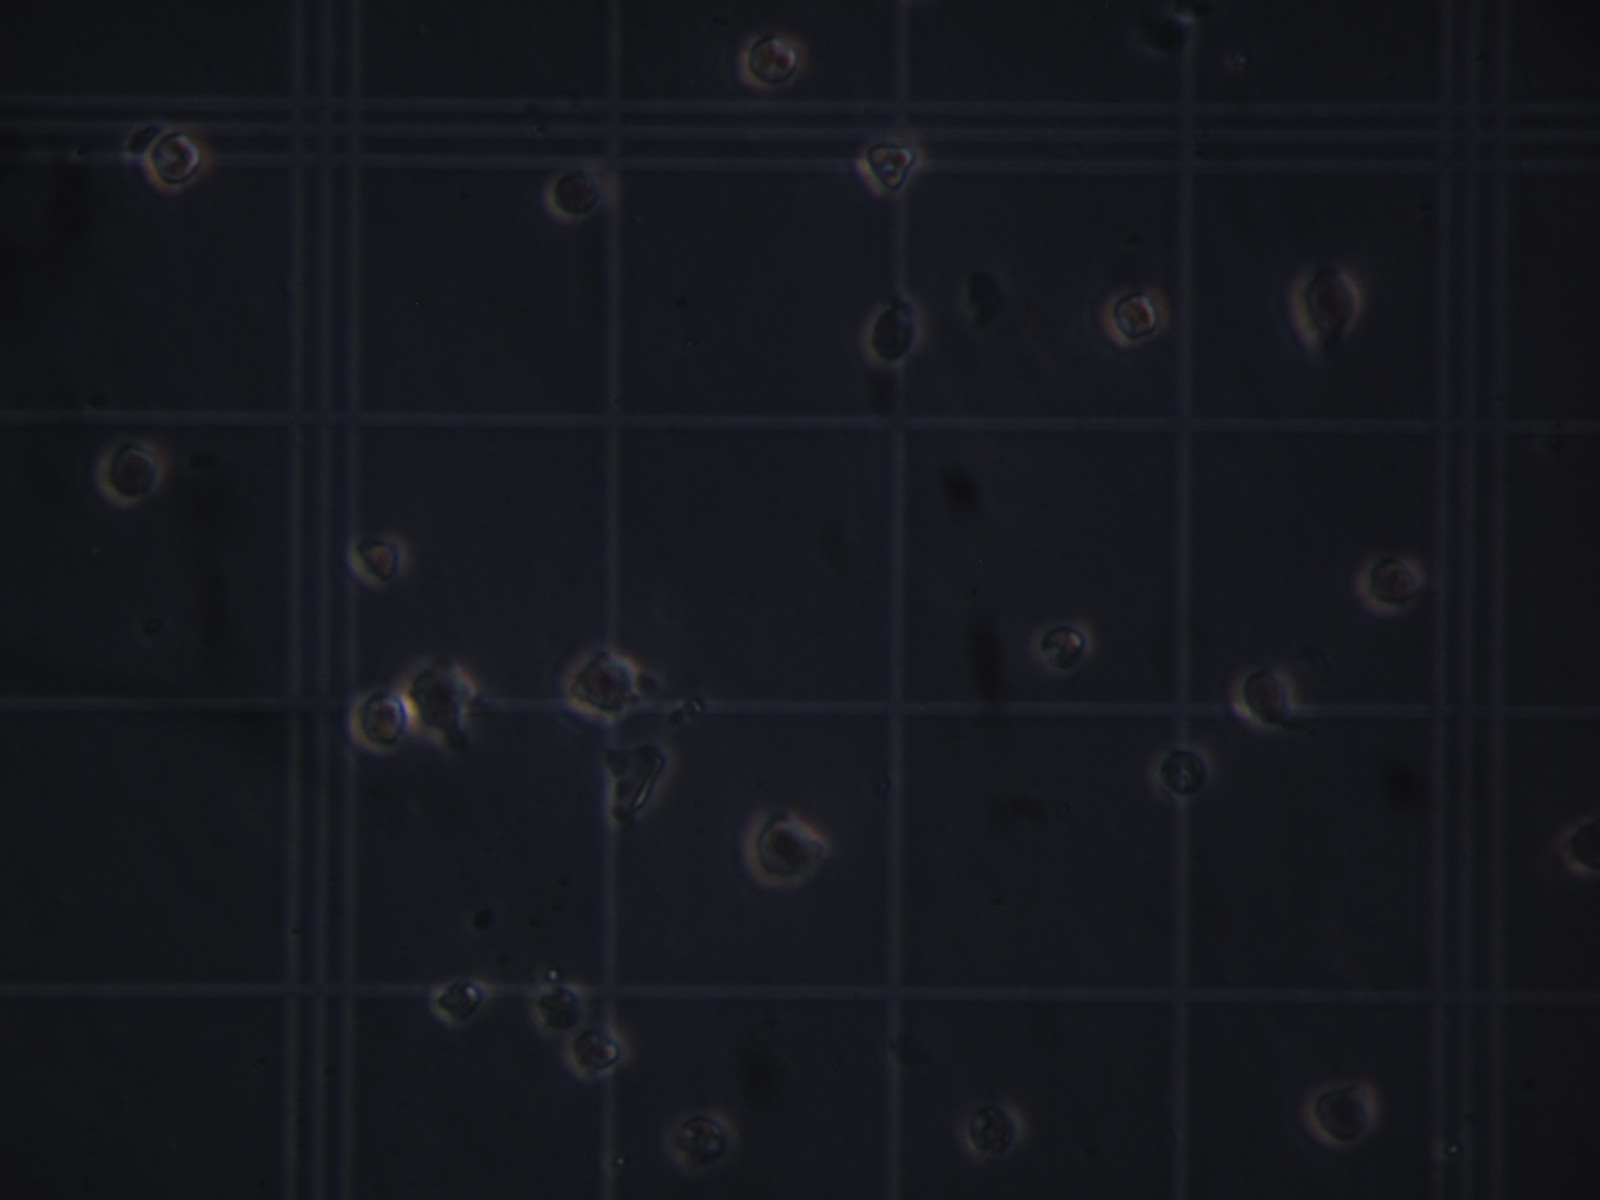hemo: (740, 805, 828, 892), (397, 654, 477, 741), (563, 642, 640, 724), (1301, 1076, 1380, 1152), (654, 1105, 738, 1174), (92, 434, 168, 507), (1353, 548, 1427, 619), (860, 292, 923, 372), (1228, 662, 1296, 735), (1293, 261, 1361, 334), (738, 25, 809, 93), (144, 126, 215, 192), (957, 1098, 1031, 1162), (346, 684, 412, 755), (1099, 284, 1170, 347), (852, 135, 923, 197), (345, 526, 409, 592), (1151, 737, 1214, 804), (546, 163, 606, 224), (527, 978, 590, 1037), (1031, 616, 1094, 674), (564, 1024, 629, 1079), (428, 973, 488, 1029), (1557, 819, 1600, 876)
